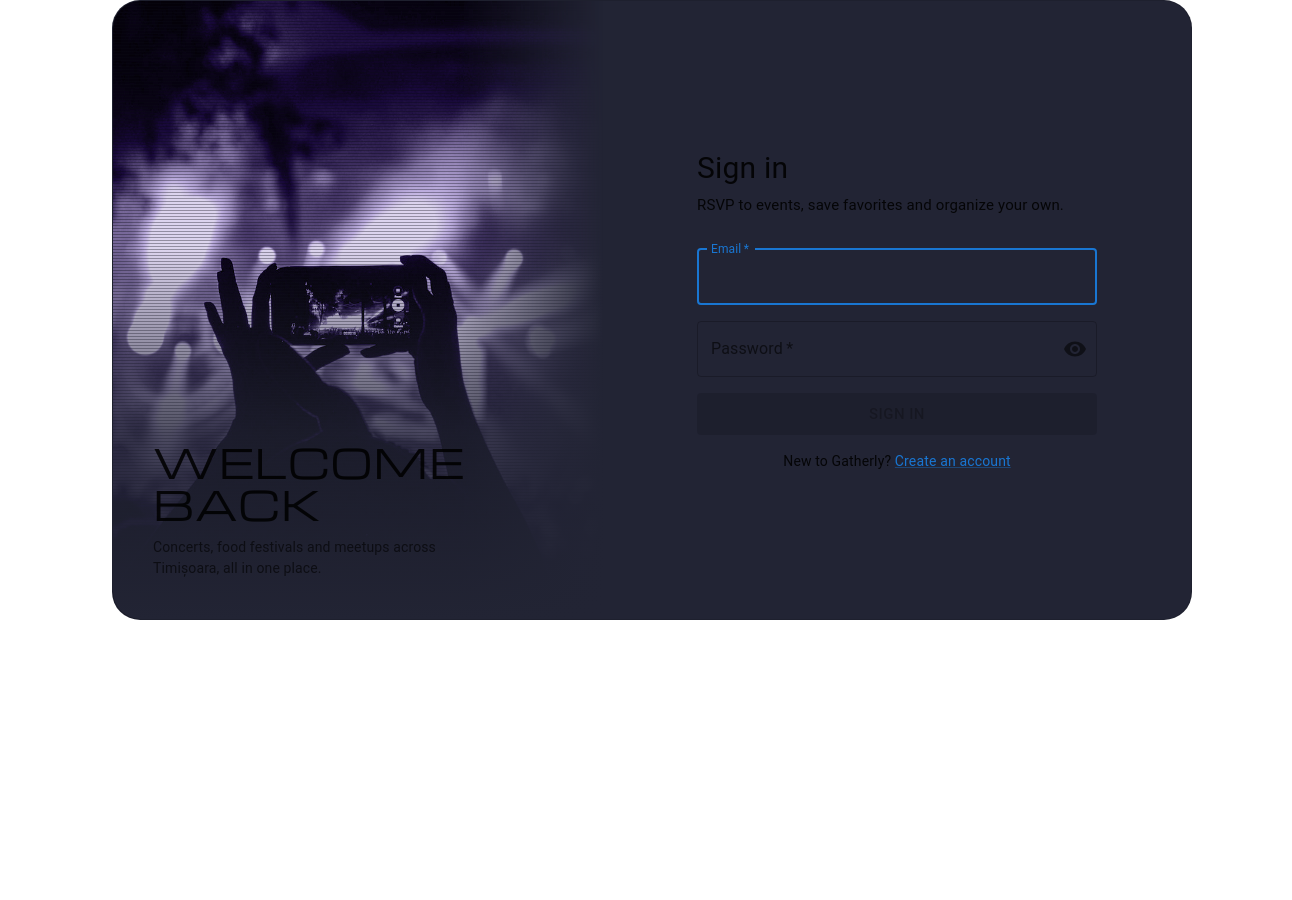
Test case: LoginPage › signs in, stores the session and goes to the requested page
Type "organizer@gatherly.dev" into the field labelled "Email *".
click(897, 277); type("organizer@gatherly.dev")  # box [697,249,1097,305]
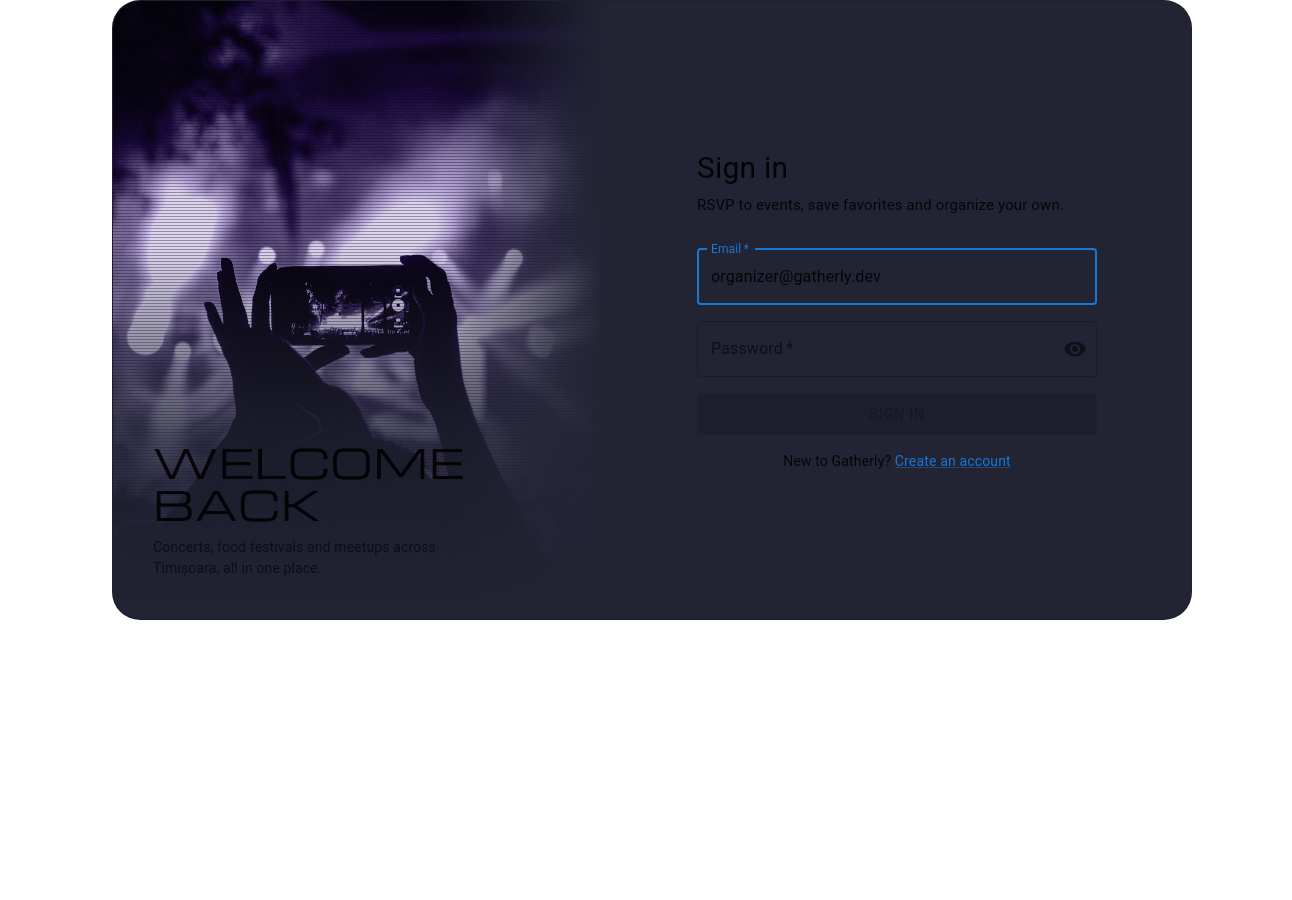
Type "Gatherly123" into the password field labelled "Password *".
click(872, 349); type("Gatherly123")  # box [697,321,1047,377]
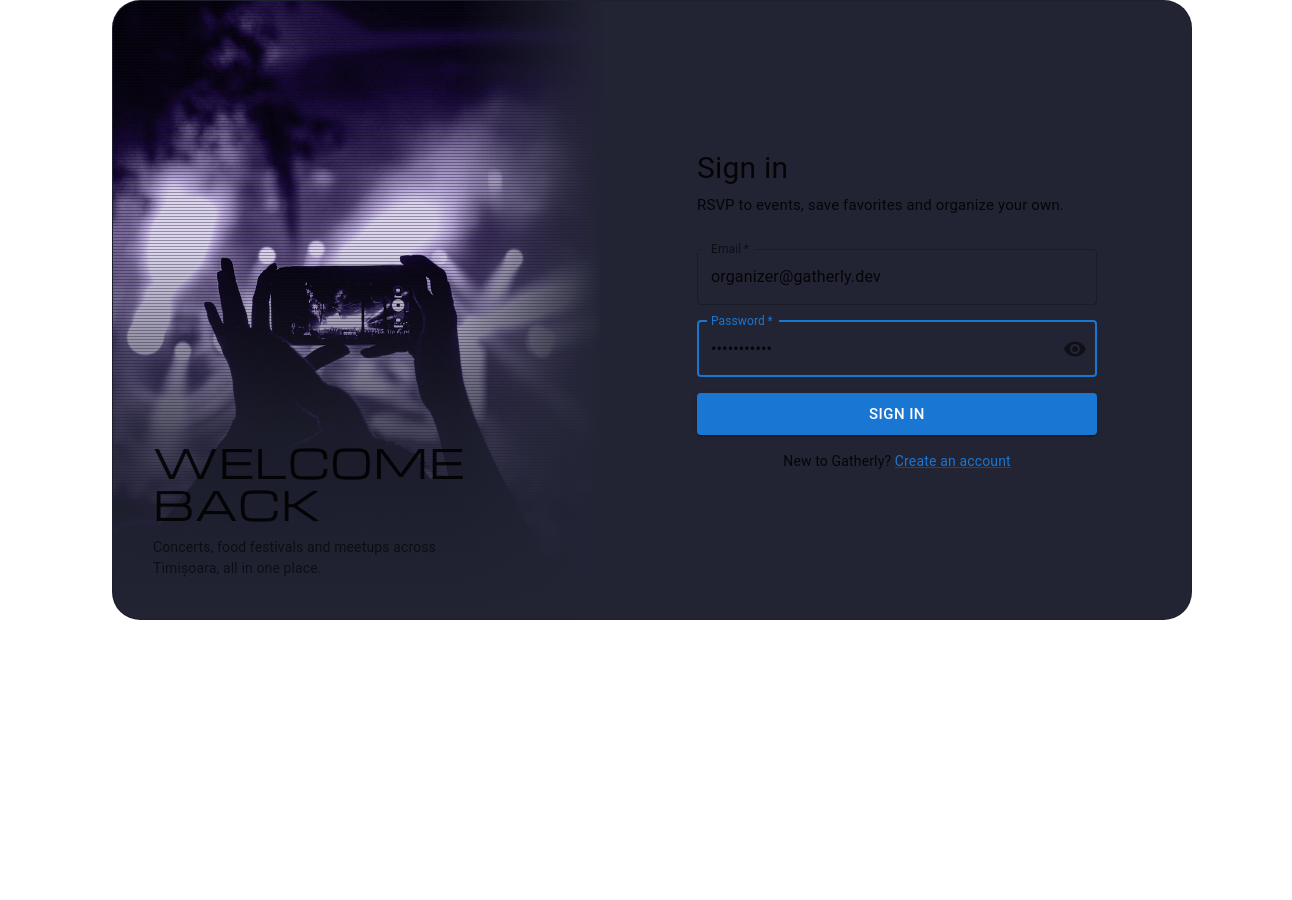
Click the button "Sign in".
click(897, 414)  # box [697,393,1097,435]
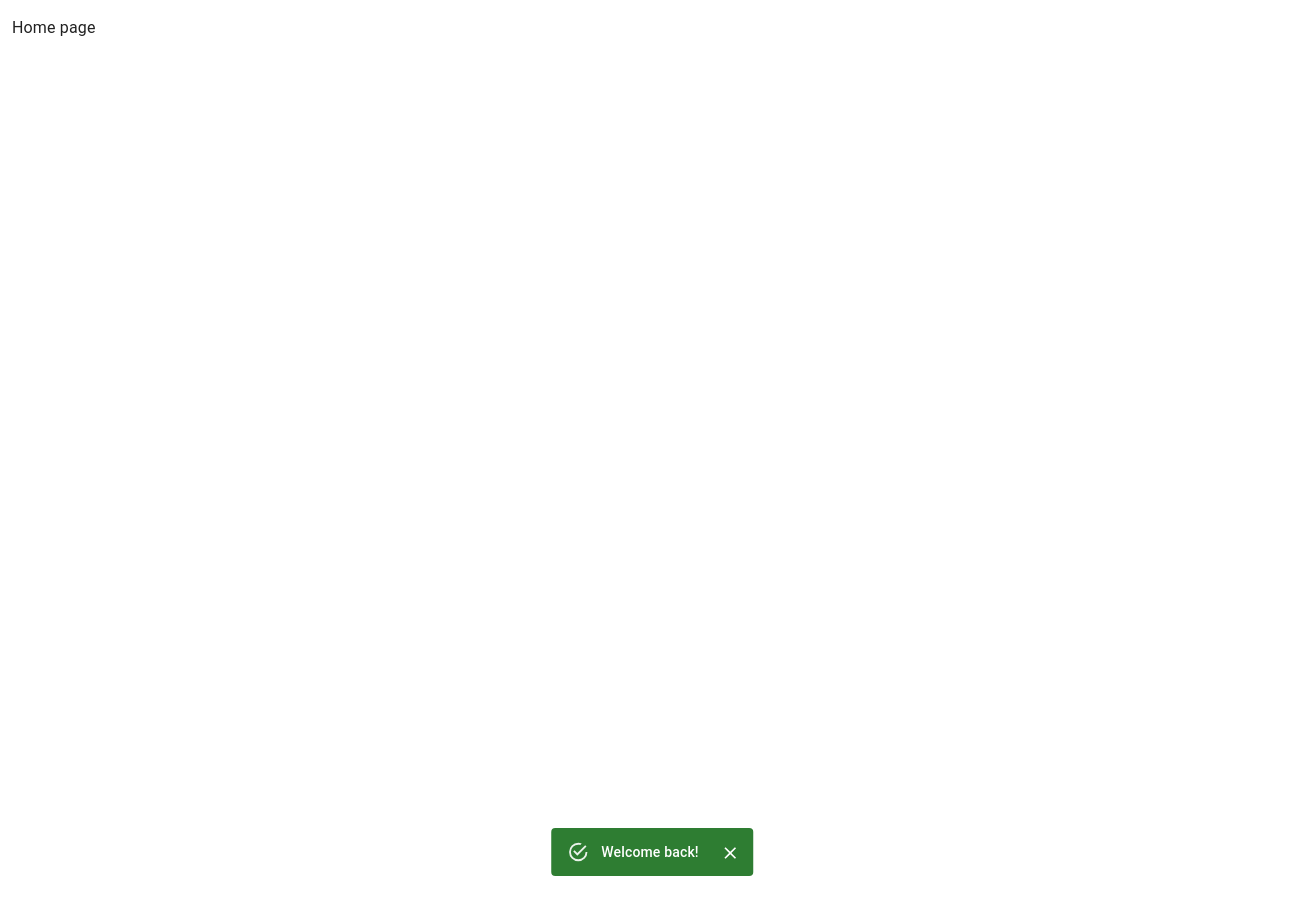
Now the text "Home page" is shown, box [12,18,96,37]
